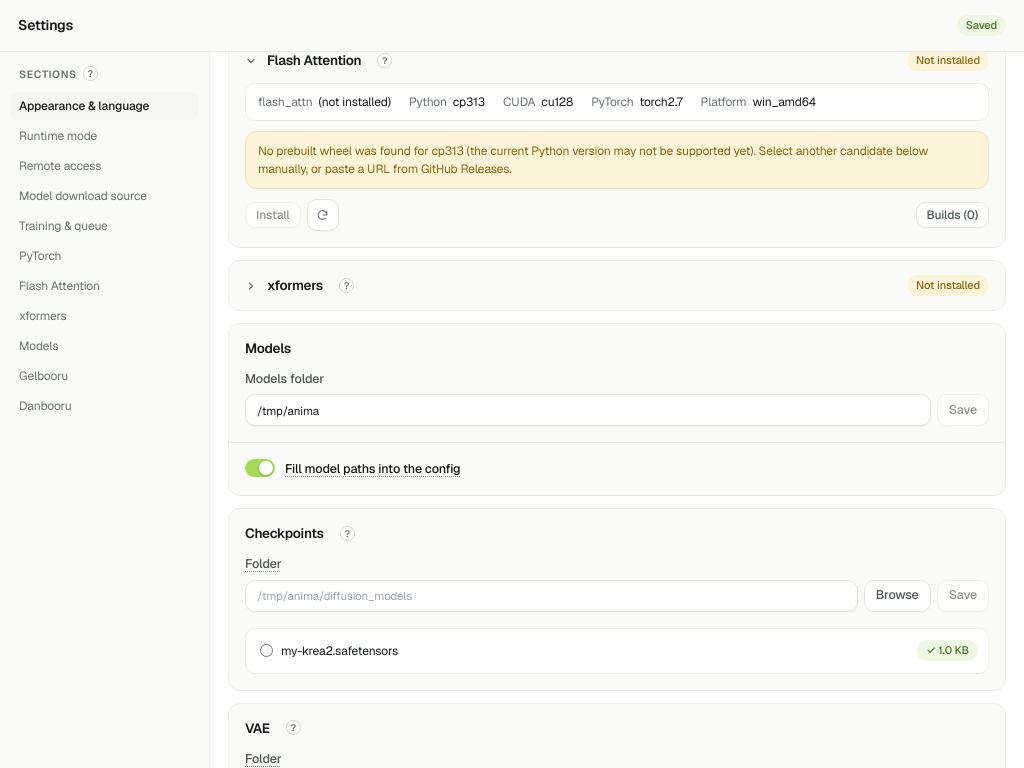
Test: SettingsPage (PP0) › only enables saving the models folder after the effective path changes
(page scrolled)
Check: the 1st button "Save" is disabled, box top-left (937, 394), bottom-right (989, 426)
Clear the field showing "/tmp/anima" at [588, 410], box top-left (245, 394), bottom-right (931, 426)
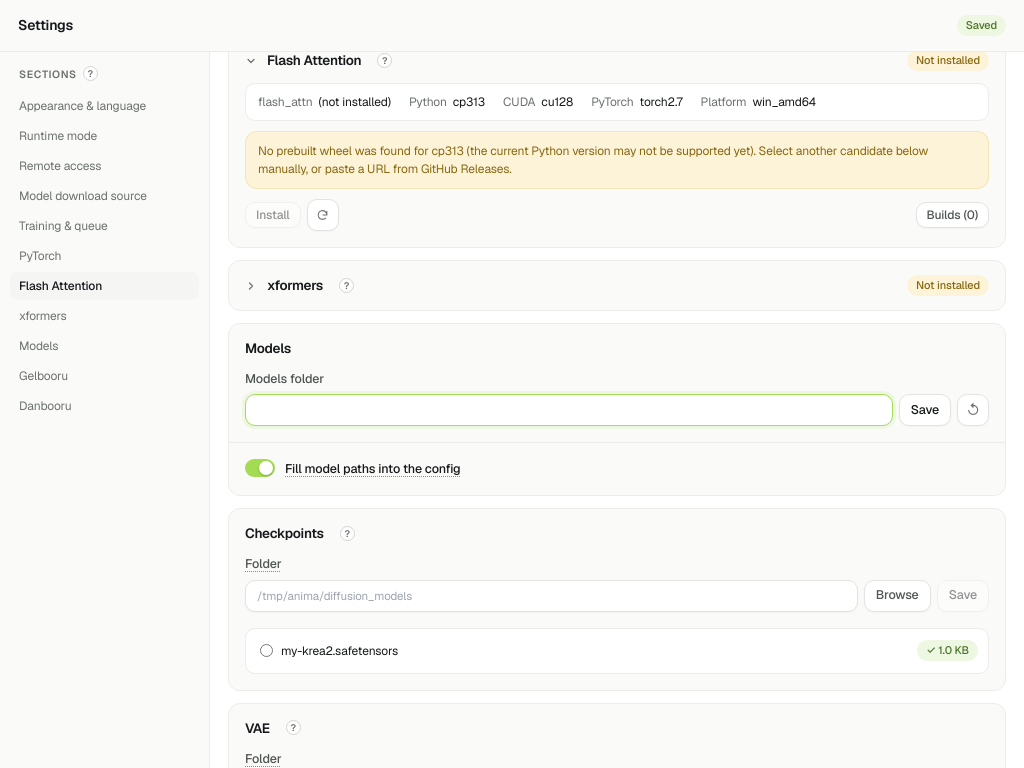
Type "/tmp/other-models" into the field showing "/tmp/anima" at [569, 410], box top-left (245, 394), bottom-right (893, 426)
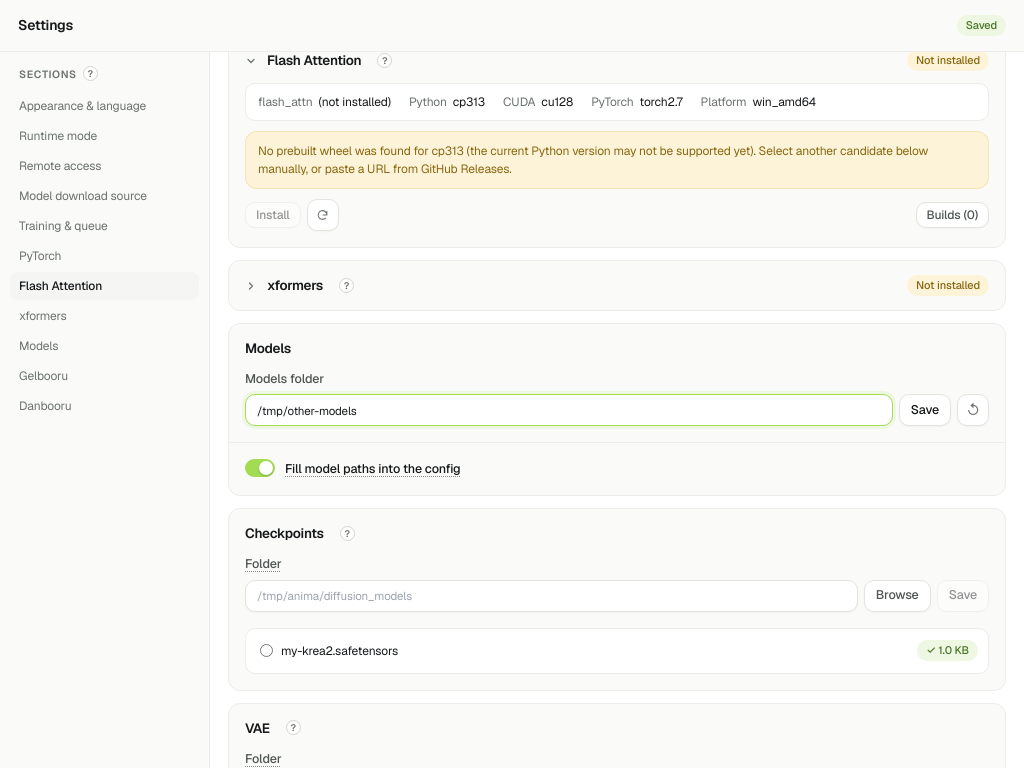
Check: the 1st button "Save" is enabled, box top-left (899, 394), bottom-right (951, 426)
Click the button named "Reset" at [973, 410], box top-left (957, 394), bottom-right (989, 426)
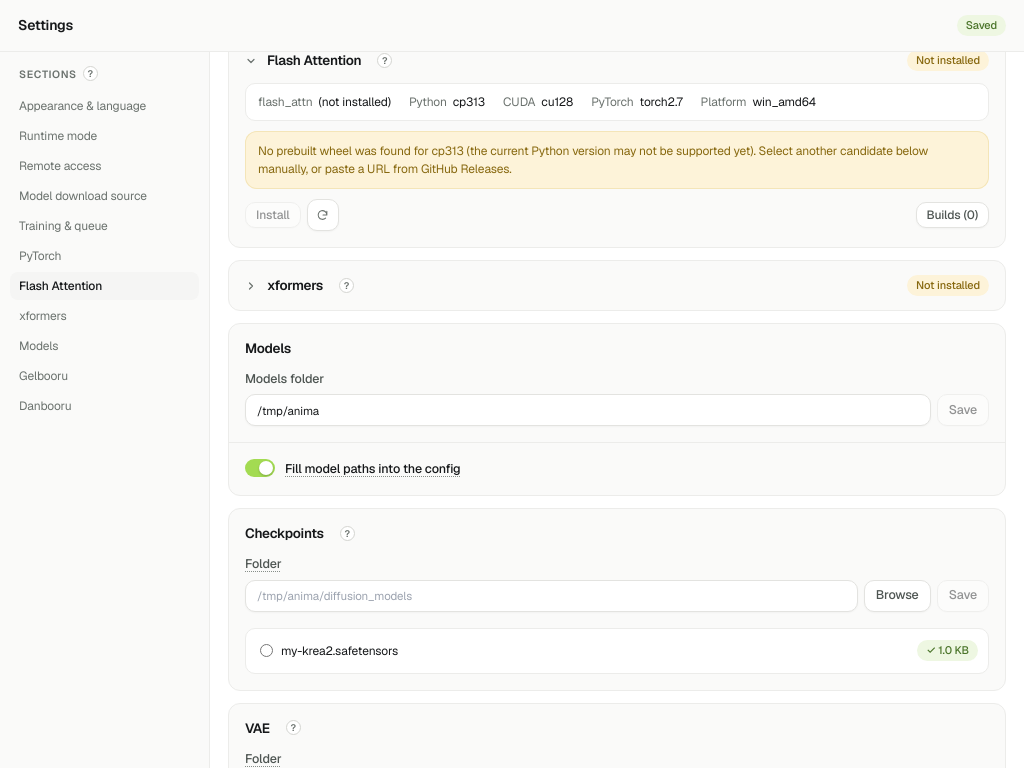
Check: the field showing "/tmp/anima" holds "/tmp/anima", box top-left (245, 394), bottom-right (931, 426)
Check: the 1st button "Save" is disabled, box top-left (937, 394), bottom-right (989, 426)
